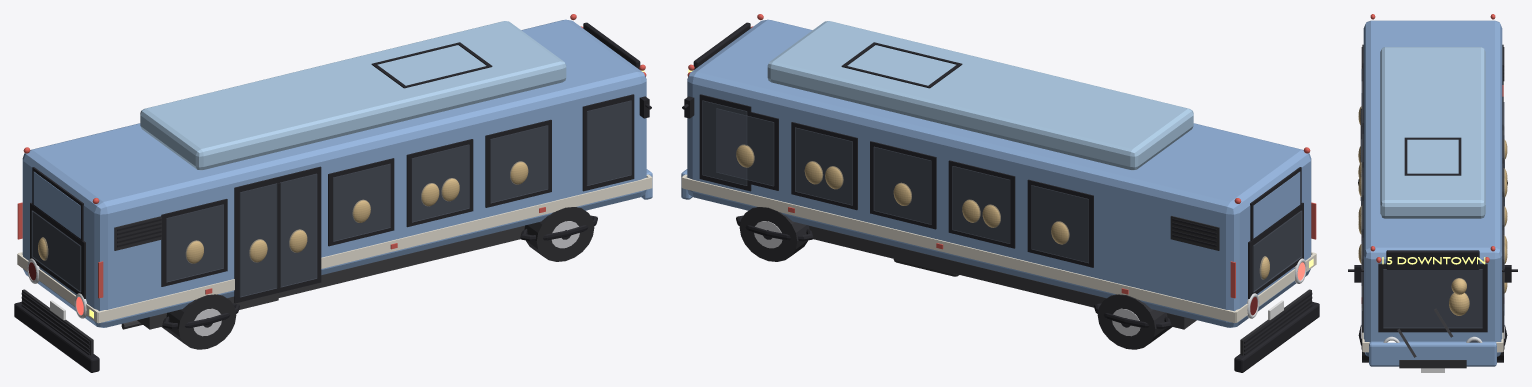
Rendered from 39-city-bus-bs5.glb.
The picture shows the model from 3 angles, left to right: view 1: azimuth 30°, elevation 25°; view 2: azimuth 150°, elevation 25°; view 3: azimuth 270°, elevation 25°; orthographic projection. The views are drawn at different scales.
Visible parts, largest first — view 1: Body, RoofPod, Door_Trim, WinR0_Trim, WinR2_Trim, WinR_rear_Trim, FrontGlassR_Trim, WinR1_Trim, Band_Ra, Door_Glass1, Door_Glass0, WinR0_Glass (+18 smaller); view 2: Body, RoofPod, Band_L, WinL4_Trim, WinL2_Trim, WinL0_Trim, WinL3_Trim, WinL1_Trim, UnderSlab, WinL2_Glass, WinL0_Glass, WinL4_Glass (+15 smaller); view 3: Body, RoofPod, Windshield_Trim, Windshield_Glass, BumperF, SignBox, IntakeF, SignText, Driver_Torso, Driver_Head, FrontGlassR_Trim, FrontGlassL_Trim (+4 smaller).
Boxes of the visible parts, bbox=[...] form: Body: bbox=[22, 19, 646, 327]; RoofPod: bbox=[140, 21, 566, 170]; Door_Trim: bbox=[234, 166, 321, 303]; WinR0_Trim: bbox=[485, 119, 551, 207]; WinR2_Trim: bbox=[328, 158, 394, 246]; WinR_rear_Trim: bbox=[161, 199, 227, 286]; FrontGlassR_Trim: bbox=[582, 94, 634, 191]; WinR1_Trim: bbox=[406, 139, 473, 227]; Band_Ra: bbox=[321, 177, 652, 268]; Door_Glass1: bbox=[239, 183, 277, 297]; Door_Glass0: bbox=[280, 173, 317, 287]; WinR0_Glass: bbox=[490, 125, 548, 203]; Body: bbox=[687, 19, 1311, 327]; RoofPod: bbox=[767, 21, 1193, 170]; Band_L: bbox=[682, 177, 1235, 322]; WinL4_Trim: bbox=[1027, 179, 1093, 267]; WinL2_Trim: bbox=[870, 141, 936, 229]; WinL0_Trim: bbox=[712, 103, 778, 190]; WinL3_Trim: bbox=[948, 160, 1015, 248]; WinL1_Trim: bbox=[791, 122, 857, 210]; UnderSlab: bbox=[809, 225, 1196, 329]; WinL2_Glass: bbox=[873, 146, 931, 224]; WinL0_Glass: bbox=[716, 108, 774, 186]; WinL4_Glass: bbox=[1031, 185, 1088, 263]; Body: bbox=[1363, 20, 1502, 356]; RoofPod: bbox=[1380, 47, 1485, 218]; Windshield_Trim: bbox=[1378, 263, 1487, 332]; Windshield_Glass: bbox=[1383, 269, 1482, 328]; BumperF: bbox=[1369, 341, 1496, 366]; SignBox: bbox=[1386, 250, 1479, 269]; IntakeF: bbox=[1399, 360, 1466, 368]; SignText: bbox=[1382, 257, 1485, 264]; Driver_Torso: bbox=[1449, 293, 1469, 315]; Driver_Head: bbox=[1451, 278, 1466, 294]; FrontGlassR_Trim: bbox=[1362, 237, 1363, 332]; FrontGlassL_Trim: bbox=[1502, 237, 1503, 332].
Size of the model in its own units: 6.15 by 1.95 by 1.83.
